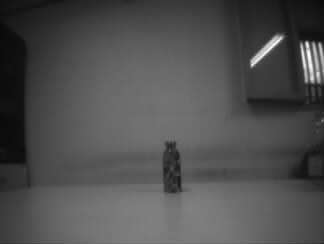Bottle: (161, 141, 183, 193)
